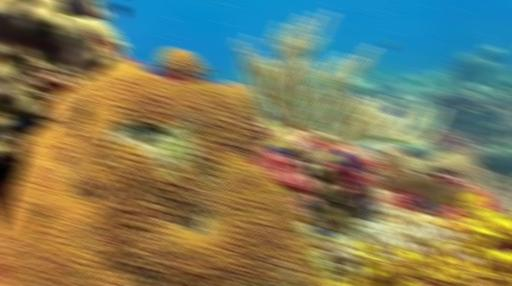Fish: (3, 108, 58, 134), (415, 198, 448, 211), (336, 150, 357, 168), (313, 225, 332, 237), (113, 2, 127, 16), (270, 146, 291, 155), (384, 108, 401, 116), (383, 41, 396, 49), (201, 68, 214, 76)
